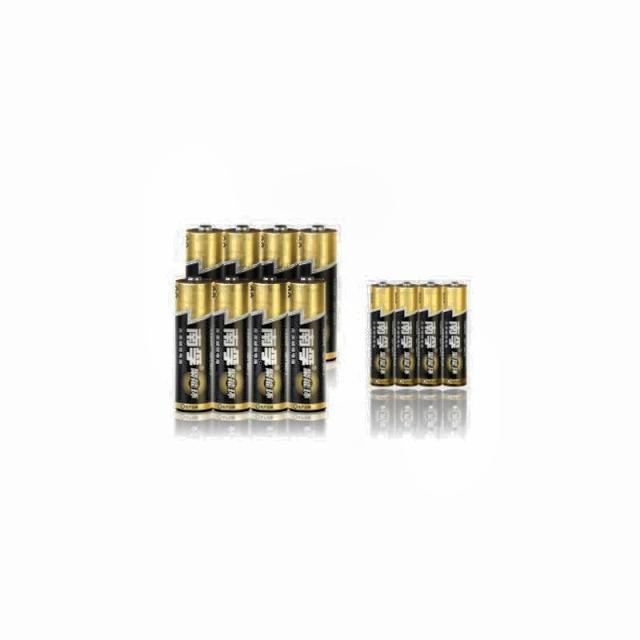battery: (176, 276, 325, 412), (186, 225, 336, 359), (371, 282, 466, 386)
